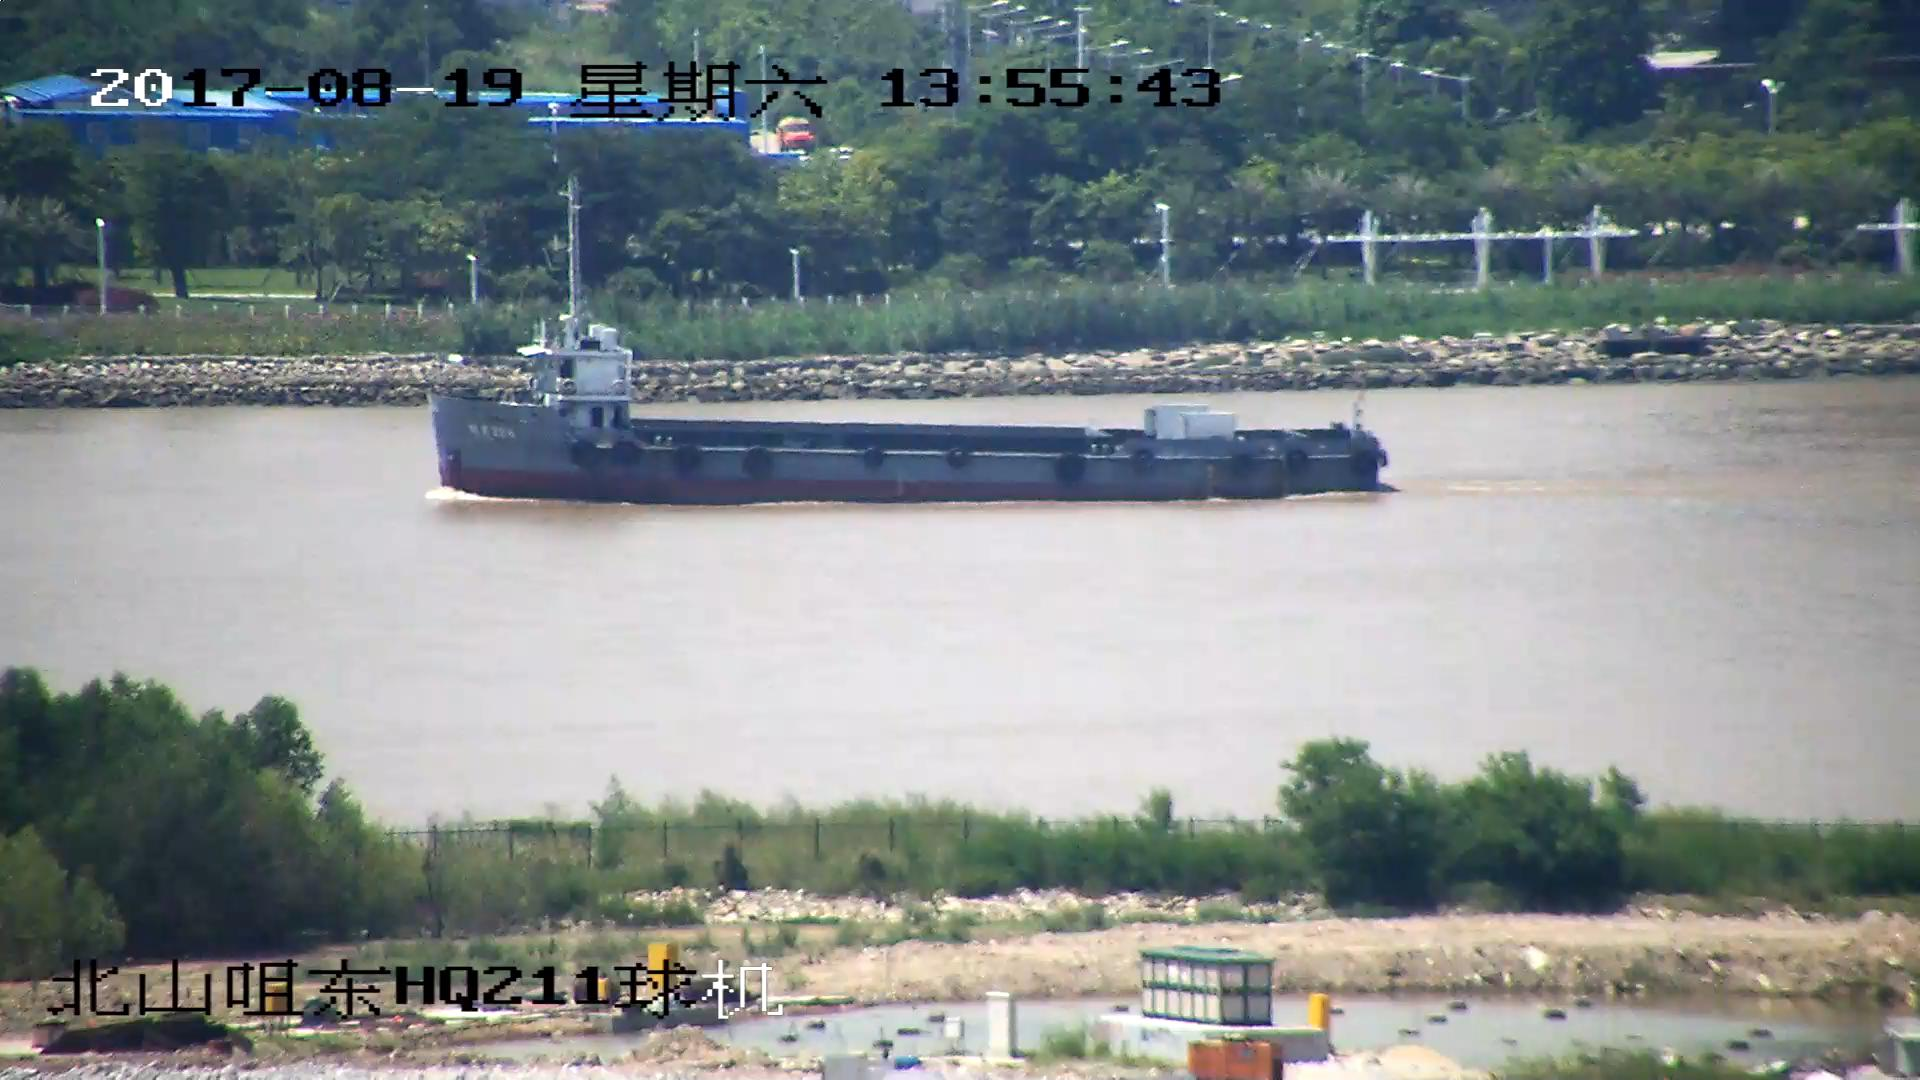general cargo ship: (434, 311, 1383, 509)
